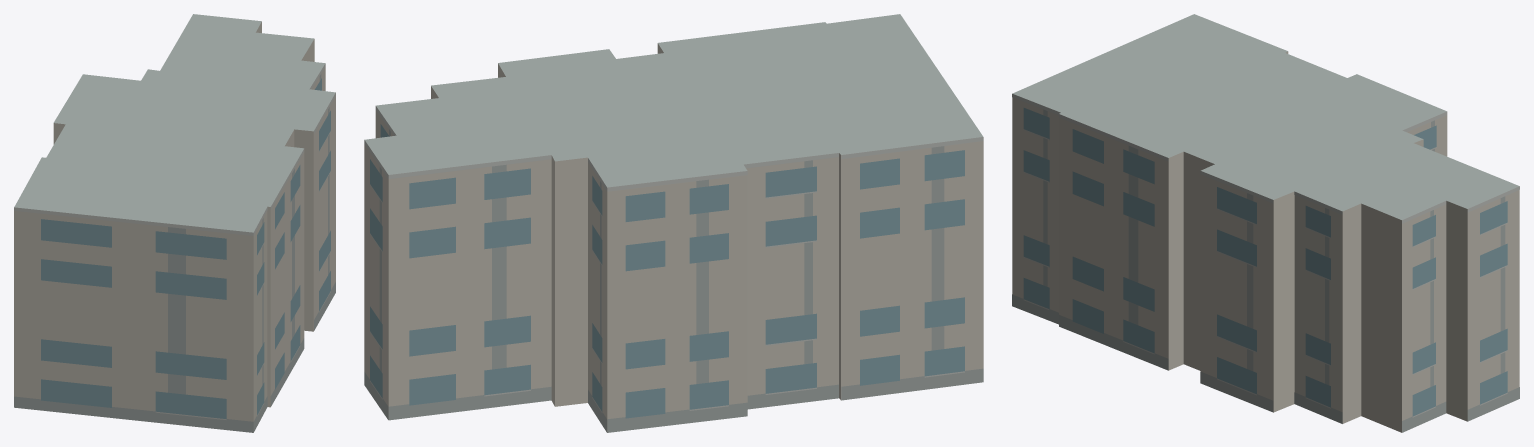
Rendered from survey-upis-32639510.glb.
The picture shows the model from 3 angles, left to right: view 1: azimuth 30°, elevation 25°; view 2: azimuth 150°, elevation 25°; view 3: azimuth 270°, elevation 25°; orthographic projection. The views are drawn at different scales.
Visible parts, largest first — view 1: survey-upis-32639510.tmp; view 2: survey-upis-32639510.tmp; view 3: survey-upis-32639510.tmp.
Part boxes in pixels (<box>): survey-upis-32639510.tmp: <box>14,14,335,432</box>; survey-upis-32639510.tmp: <box>364,14,983,432</box>; survey-upis-32639510.tmp: <box>1012,14,1519,432</box>.
Size of the model in its own units: 29.76 by 14.3 by 30.95.
